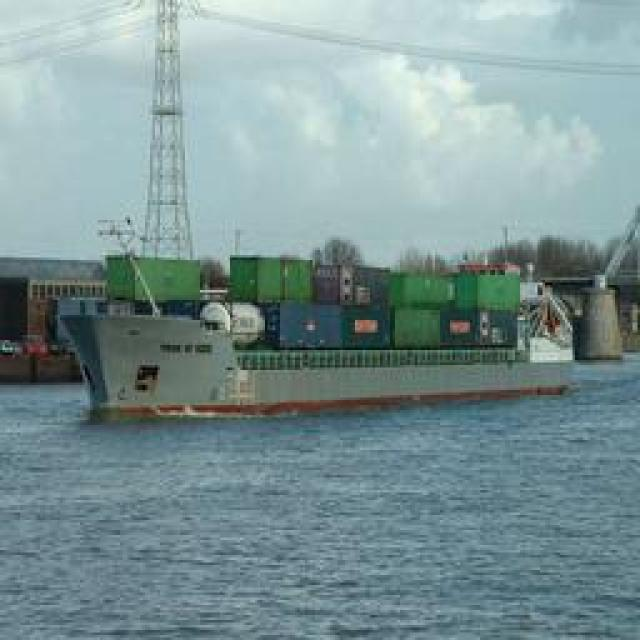ship2: (57, 254, 576, 425)
